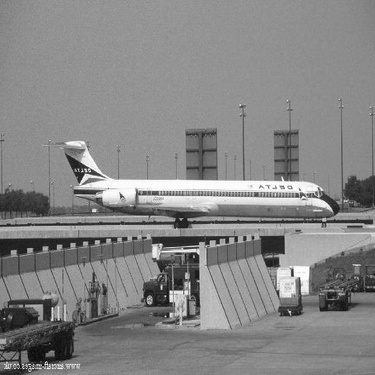airplane: (21, 121, 346, 248)
